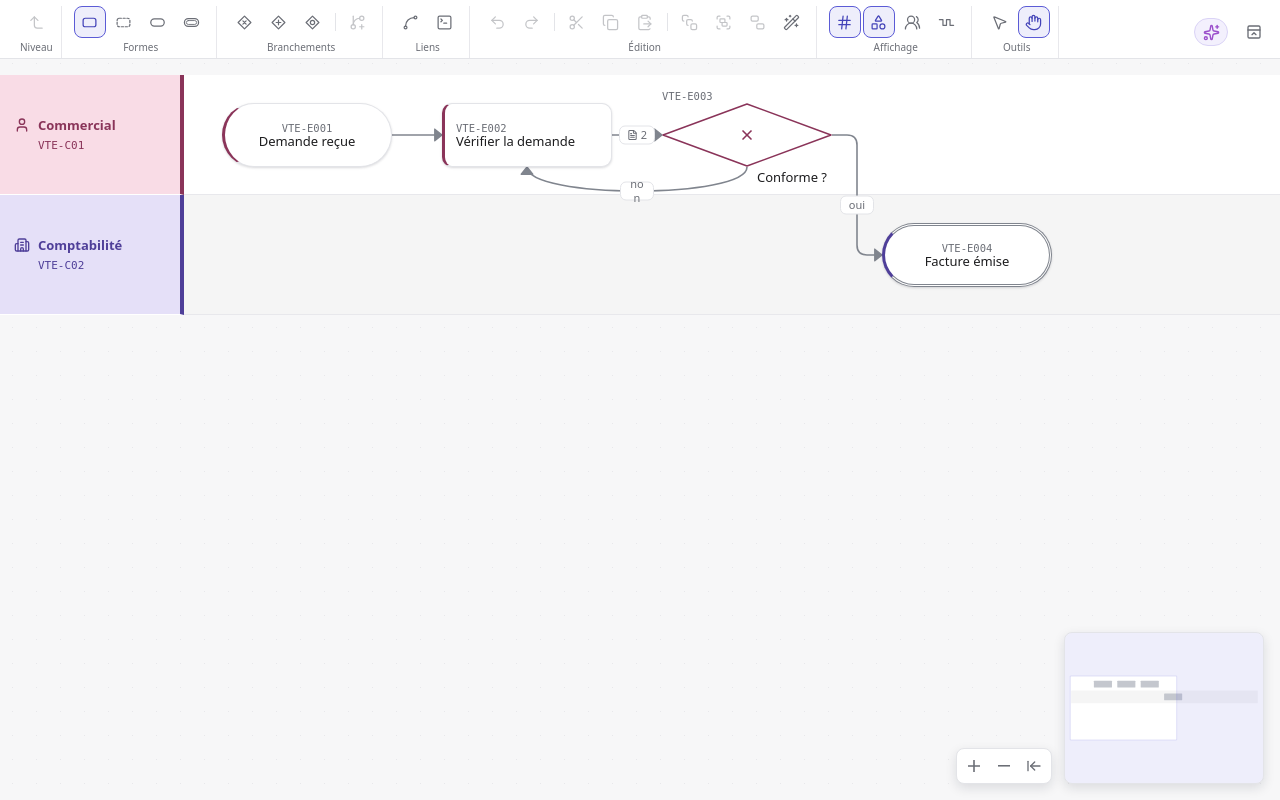
Test: the panel of the assistant on the map › offers the four tiles, the two that change the map for the facilitator only, and a tile fills the field with its practice
Click the button with test id "ribbon-assistant". click: (1211, 32)
box: [1194,18,1228,46]
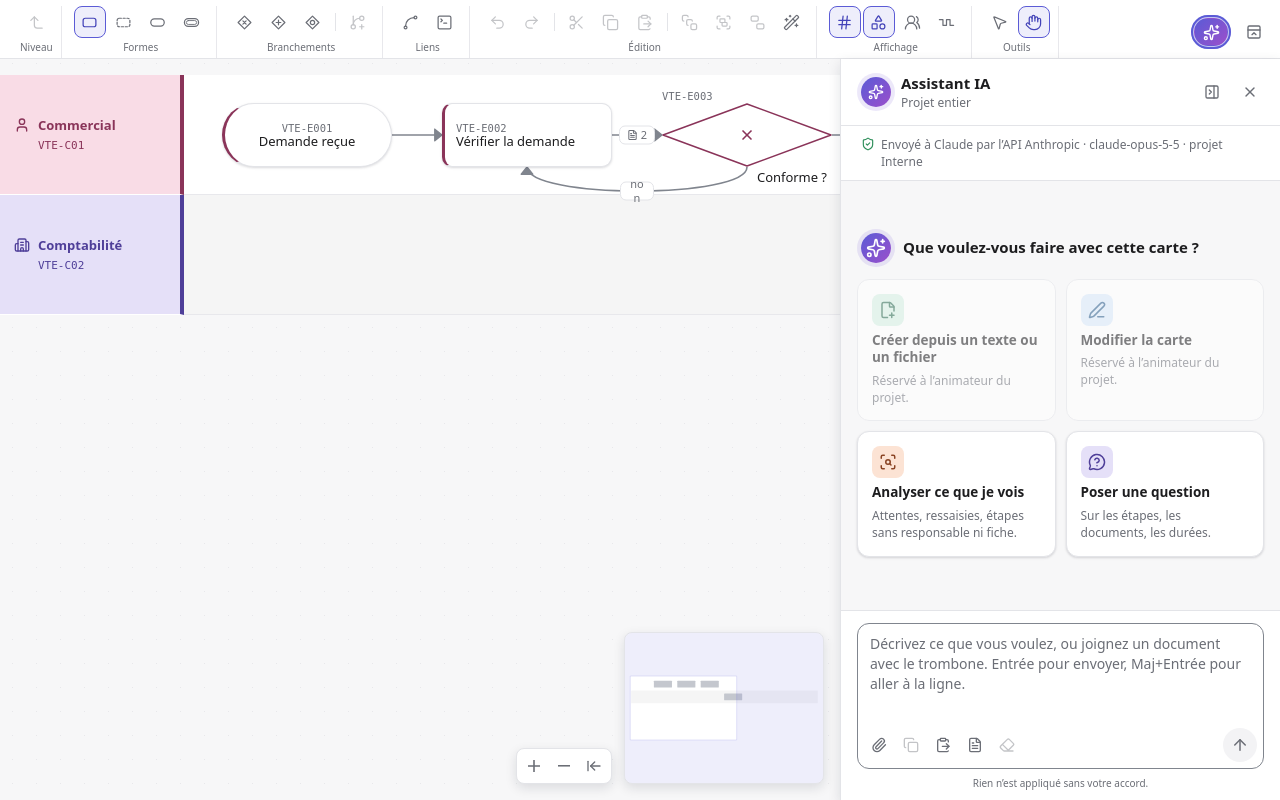
Result: the element with test id "assistant-tiles" that starts with "Que voulez-vous faire avec cette carte ?" is shown at [857,233,1264,556]
Result: the button with test id "assistant-tile-create" is disabled at [857,279,1056,421]
Result: the button with test id "assistant-tile-modify" is disabled at [1066,279,1264,421]
Click the button with test id "assistant-tile-analyze". click: (956, 494)
box: [857,431,1056,556]
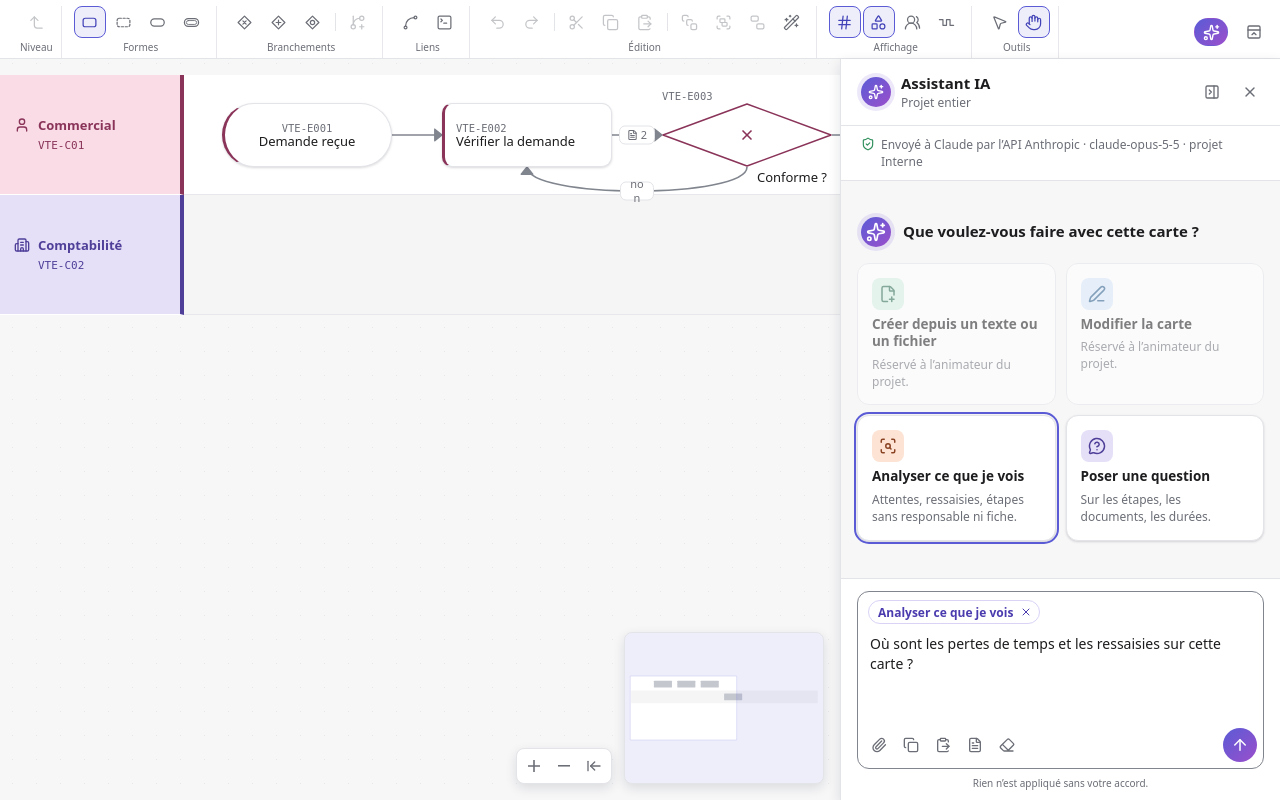
Result: the text box with test id "assistant-field" holds "Où sont les pertes de temps et les ressaisies sur cette carte ?" at [858,624,1263,724]
Result: the element with test id "assistant-intent" reads "Analyser ce que je vois" at [878,604,1013,620]
